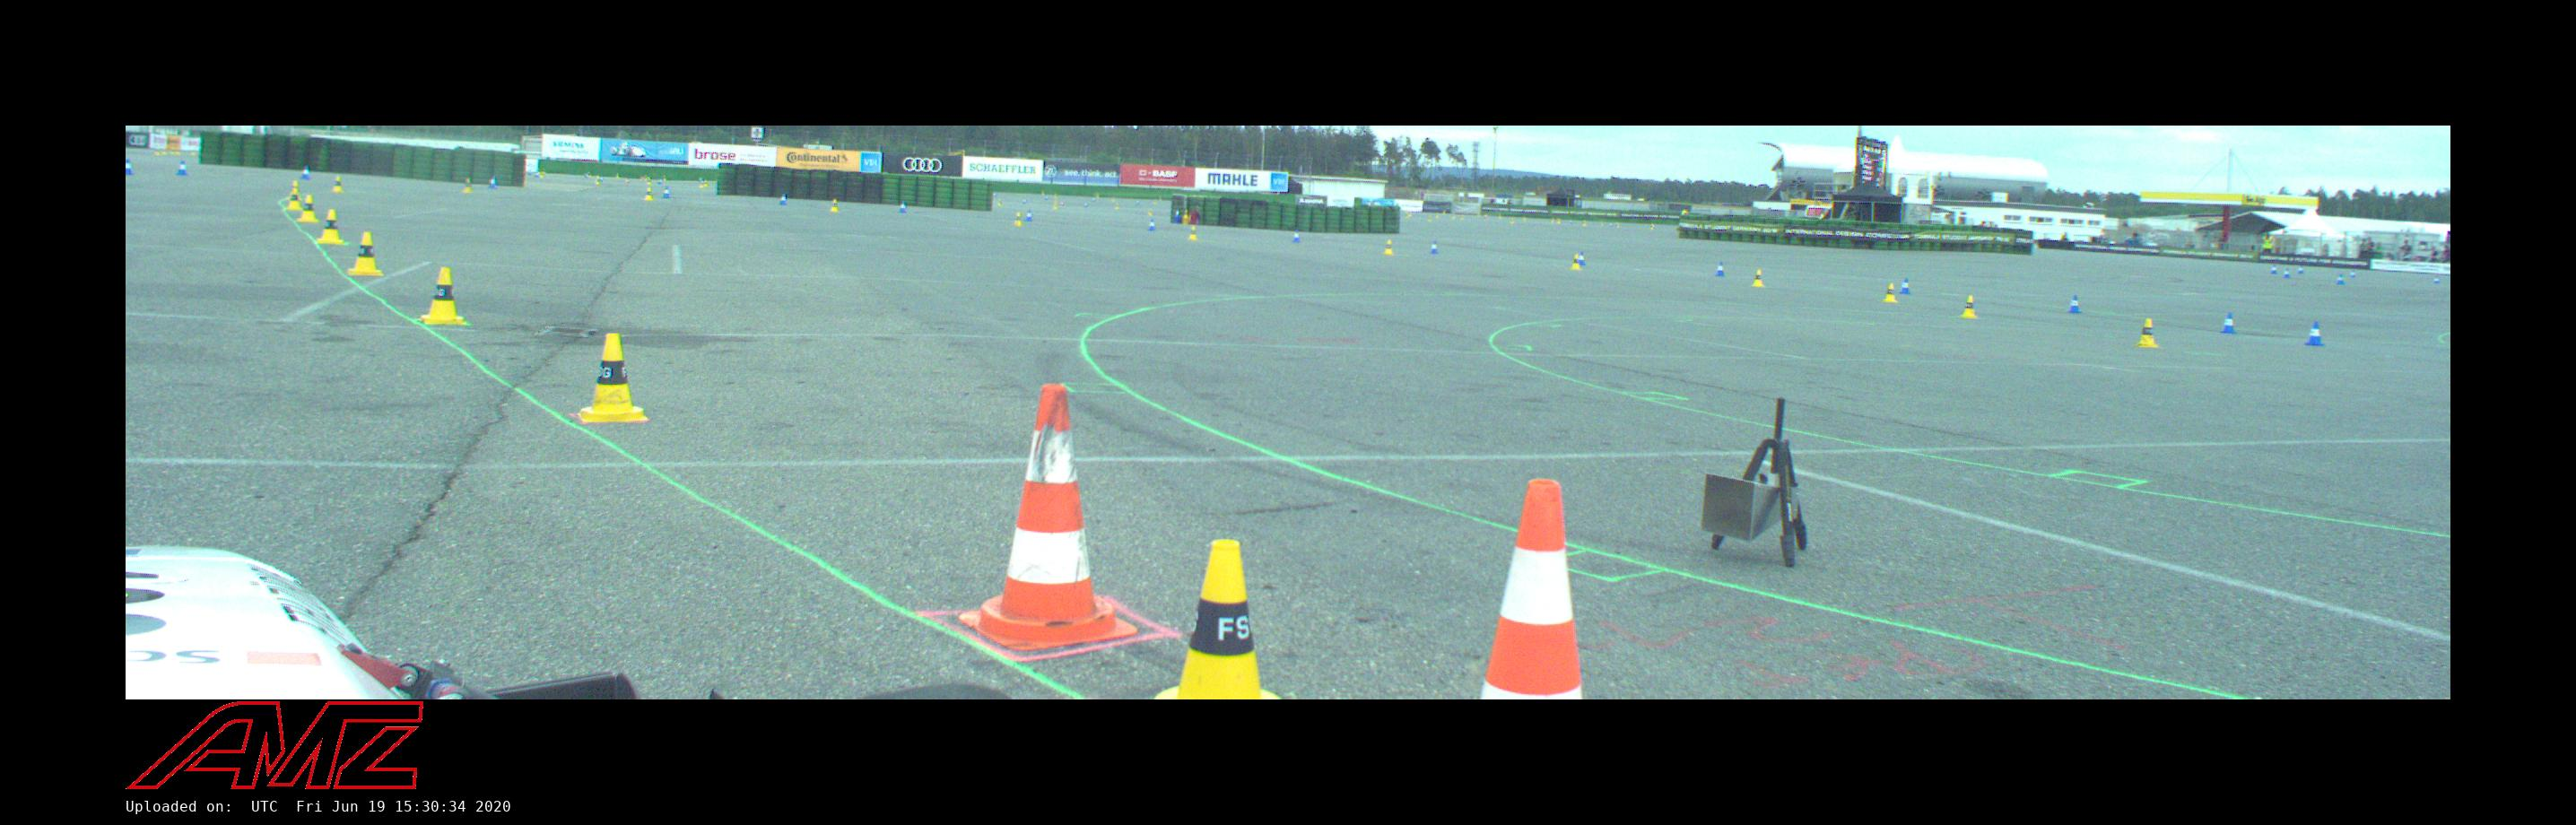blue_cone: (2307, 322, 2325, 347), (2221, 312, 2238, 334), (2067, 294, 2081, 312), (299, 164, 310, 181), (1899, 278, 1911, 294), (125, 158, 135, 176), (176, 161, 189, 174), (1715, 261, 1725, 276), (1429, 240, 1439, 255), (1576, 251, 1585, 266), (662, 186, 672, 199), (486, 176, 496, 189), (1023, 210, 1033, 222), (899, 200, 907, 212), (779, 194, 787, 204), (2336, 274, 2344, 284), (1148, 219, 1155, 230), (1293, 230, 1299, 242), (2284, 268, 2290, 278), (2270, 265, 2277, 274), (2433, 276, 2441, 283), (2349, 270, 2356, 278), (2298, 266, 2303, 274)
large_orange_cone: (959, 383, 1138, 651), (1479, 473, 1587, 698)
yellow_cone: (1152, 537, 1290, 698), (578, 334, 649, 421), (417, 268, 467, 324), (348, 232, 384, 276), (317, 209, 345, 243), (2136, 319, 2159, 347), (297, 194, 319, 222), (1960, 296, 1978, 319), (286, 189, 302, 210), (1883, 283, 1897, 302), (330, 174, 343, 192), (289, 181, 301, 200), (1751, 270, 1763, 288), (1569, 253, 1580, 270), (1014, 212, 1023, 227), (1383, 240, 1393, 255), (463, 179, 473, 192), (1188, 227, 1198, 240), (646, 186, 654, 200), (830, 199, 838, 212), (595, 176, 601, 184), (1148, 209, 1153, 217), (1053, 202, 1058, 210), (997, 199, 1002, 207), (700, 181, 705, 187), (647, 179, 652, 184), (703, 181, 708, 186)
